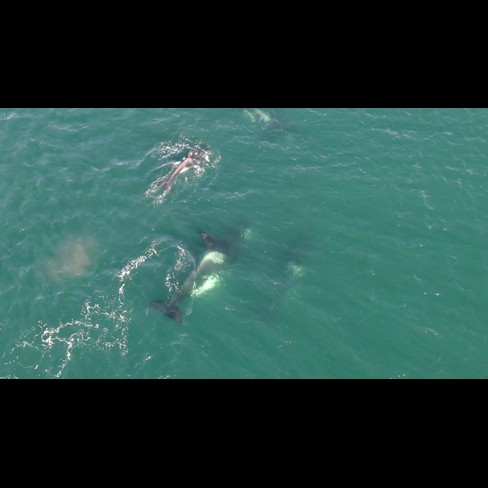orca: (140, 209, 272, 330), (258, 231, 318, 330), (144, 135, 222, 202)
